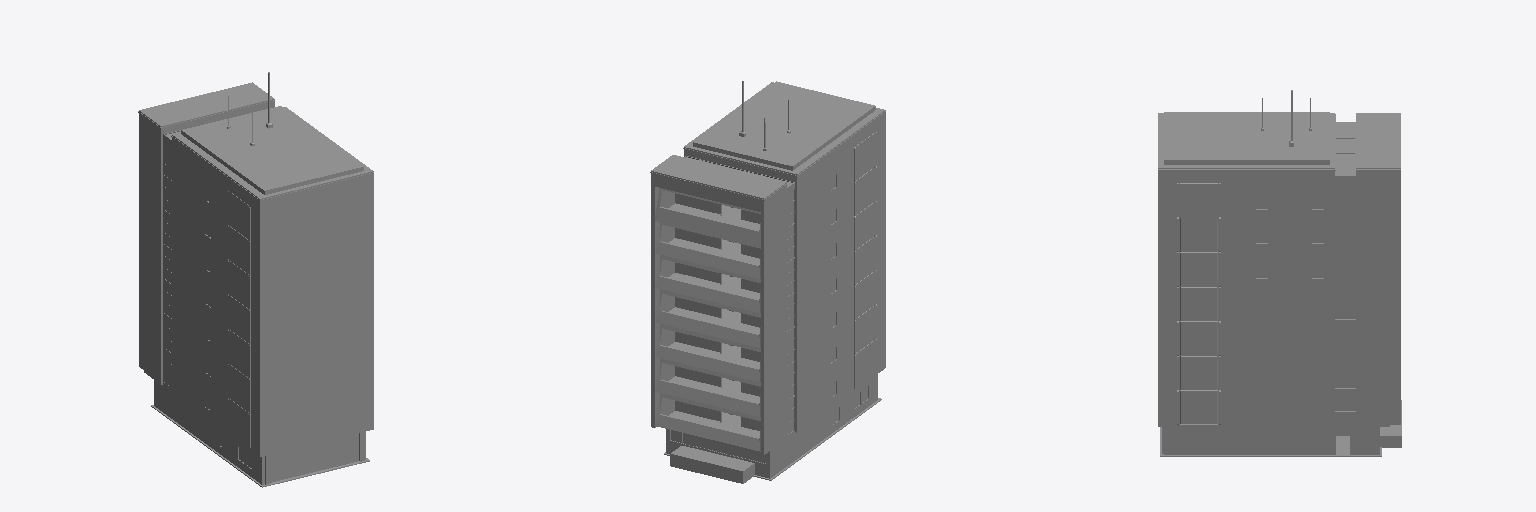
Rendered from ResidentialBuildings004.obj.
3 renders of one model, left to right at view 1: azimuth 30°, elevation 25°; view 2: azimuth 150°, elevation 25°; view 3: azimuth 270°, elevation 25°, orthographic.
Visible parts, largest first — view 1: Residential_Buildings_004_Cube.009; view 2: Residential_Buildings_004_Cube.009; view 3: Residential_Buildings_004_Cube.009.
Part boxes in pixels (x1,y1,x2,y2): Residential_Buildings_004_Cube.009: (138, 72, 373, 487); Residential_Buildings_004_Cube.009: (650, 81, 885, 483); Residential_Buildings_004_Cube.009: (1158, 90, 1401, 456).
Size of the model in its own units: 12.59 by 36.39 by 23.1.